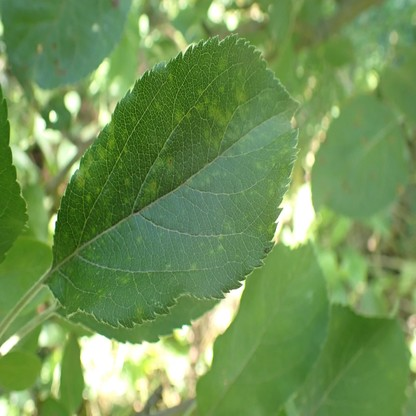scab: (65, 59, 289, 322)
